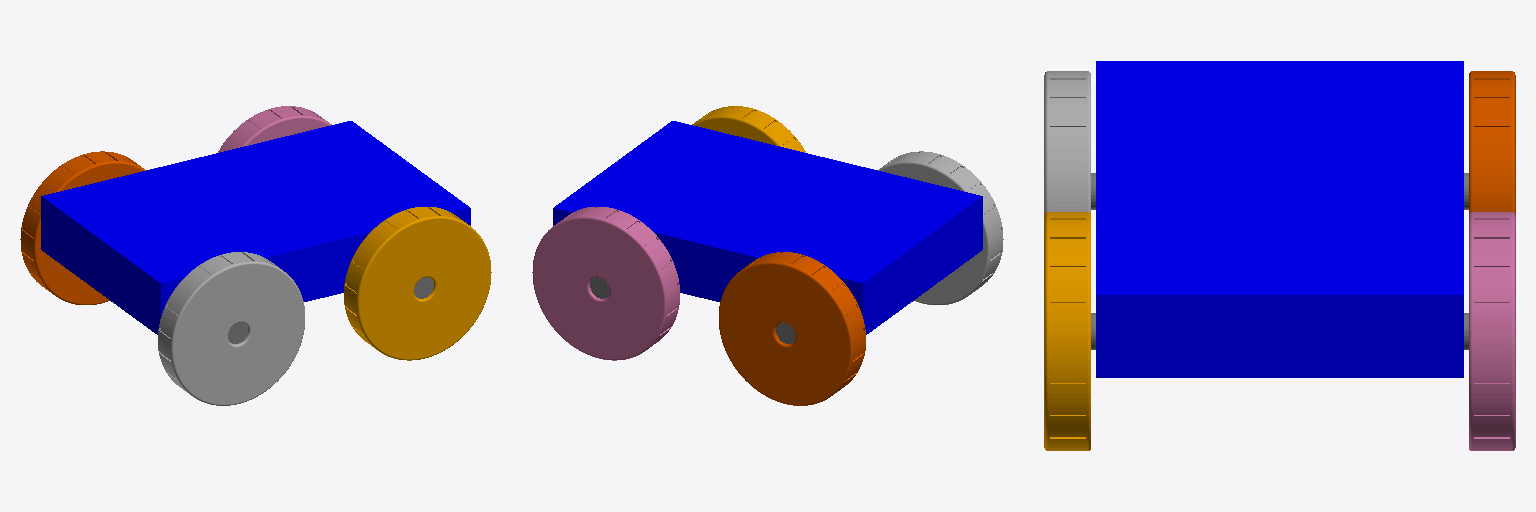
robot.urdf — farad_amr:
<?xml version="1.0"?>
<robot name="farad_amr">

<!-- Base link (chassis) -->
<link name="base_link">
<visual>
<geometry>
<box size="0.6 0.4 0.1"/>
</geometry>
<material name="blue">
<color rgba="0 0 1 1"/>
</material>
</visual>
<collision>
<geometry>
<box size="0.6 0.4 0.1"/>
</geometry>
</collision>
<inertial>
<mass value="10.0"/>
<inertia ixx="0.1" ixy="0.0" ixz="0.0" iyy="0.1" iyz="0.0" izz="0.1"/>
</inertial>
</link>




<!-- Left front shaft -->
<link name="left_front_shaft">
<visual>
<geometry>
<cylinder radius="0.02" length="0.10"/>
</geometry>
<origin xyz="0 0 0" rpy="1.5708 0 0"/>
<material name="gray">
<color rgba="0.5 0.5 0.5 1"/>
</material>
</visual>
<collision>
<geometry>
<cylinder radius="0.02" length="0.10"/>
</geometry>
<origin xyz="0 0 0" rpy="1.5708 0 0"/>
</collision>
<inertial>
<mass value="0.2"/>
<inertia ixx="0.01" ixy="0.0" ixz="0.0" iyy="0.01" iyz="0.0" izz="0.01"/>
</inertial>
</link>

<!-- Left rear shaft -->
<link name="left_rear_shaft">
<visual>
<geometry>
<cylinder radius="0.02" length="0.10"/>
</geometry>
<origin xyz="0 0 0" rpy="1.5708 0 0"/>
<material name="gray">
<color rgba="0.5 0.5 0.5 1"/>
</material>
</visual>
<collision>
<geometry>
<cylinder radius="0.02" length="0.10"/>
</geometry>
<origin xyz="0 0 0" rpy="1.5708 0 0"/>
</collision>
<inertial>
<mass value="0.2"/>
<inertia ixx="0.01" ixy="0.0" ixz="0.0" iyy="0.01" iyz="0.0" izz="0.01"/>
</inertial>
</link>

<!-- Right front shaft -->
<link name="right_front_shaft">
<visual>
<geometry>
<cylinder radius="0.02" length="0.10"/>
</geometry>
<origin xyz="0 0 0" rpy="1.5708 0 0"/>
<material name="gray">
<color rgba="0.5 0.5 0.5 1"/>
</material>
</visual>
<collision>
<geometry>
<cylinder radius="0.02" length="0.10"/>
</geometry>
<origin xyz="0 0 0" rpy="1.5708 0 0"/>
</collision>
<inertial>
<mass value="0.2"/>
<inertia ixx="0.01" ixy="0.0" ixz="0.0" iyy="0.01" iyz="0.0" izz="0.01"/>
</inertial>
</link>

<!-- Right rear shaft -->
<link name="right_rear_shaft">
<visual>
<geometry>
<cylinder radius="0.02" length="0.10"/>
</geometry>
<origin xyz="0 0 0" rpy="1.5708 0 0"/>
<material name="gray">
<color rgba="0.5 0.5 0.5 1"/>
</material>
</visual>
<collision>
<geometry>
<cylinder radius="0.02" length="0.10"/>
</geometry>
<origin xyz="0 0 0" rpy="1.5708 0 0"/>
</collision>
<inertial>
<mass value="0.2"/>
<inertia ixx="0.01" ixy="0.0" ixz="0.0" iyy="0.01" iyz="0.0" izz="0.01"/>
</inertial>
</link>



<!-- ================= TIRES (MESH) ================= -->

<!-- Left front tire (aligned with shaft, at +Y end) -->
<link name="left_front_tire">
	<inertial>
		<origin xyz="0 0 0"/>
		<mass value="1.0"/>
		<inertia ixx="0.02" iyy="0.02" izz="0.02" ixy="0" ixz="0" iyz="0"/>
	</inertial>
	<visual>
		<origin xyz="0 0.03 0" rpy="1.5708 0 0"/>
		<geometry>
			<mesh filename="tire_2.stl" scale="0.001 0.001 0.001"/>
		</geometry>
	</visual>
	<collision>
		<origin xyz="0 0.03 0" rpy="1.5708 0 0"/>
		<geometry>
			<mesh filename="tire_2.stl" scale="0.001 0.001 0.001"/>
		</geometry>
	</collision>
</link>

<!-- Left rear tire (aligned with shaft, at +Y end) -->
<link name="left_rear_tire">
	<inertial>
		<origin xyz="0 0 0"/>
		<mass value="1.0"/>
		<inertia ixx="0.02" iyy="0.02" izz="0.02" ixy="0" ixz="0" iyz="0"/>
	</inertial>
	<visual>
		<origin xyz="0 0.03 0" rpy="1.5708 0 0"/>
		<geometry>
			<mesh filename="tire_2.stl" scale="0.001 0.001 0.001"/>
		</geometry>
	</visual>
	<collision>
		<origin xyz="0 0.03 0" rpy="1.5708 0 0"/>
		<geometry>
			<mesh filename="tire_2.stl" scale="0.001 0.001 0.001"/>
		</geometry>
	</collision>
</link>

<!-- Right front tire (aligned with shaft, at +Y end) -->
<link name="right_front_tire">
	<inertial>
		<origin xyz="0 0 0"/>
		<mass value="1.0"/>
		<inertia ixx="0.02" iyy="0.02" izz="0.02" ixy="0" ixz="0" iyz="0"/>
	</inertial>
	<visual>
		<origin xyz="0 -0.03 0" rpy="1.5708 0 0"/>
		<geometry>
			<mesh filename="tire_2.stl" scale="0.001 0.001 0.001"/>
		</geometry>
	</visual>
	<collision>
		<origin xyz="0 -0.03 0" rpy="1.5708 0 0"/>
		<geometry>
			<mesh filename="tire_2.stl" scale="0.001 0.001 0.001"/>
		</geometry>
	</collision>
</link>

<!-- Right rear tire (aligned with shaft, at +Y end) -->
<link name="right_rear_tire">
	<inertial>
		<origin xyz="0 0 0"/>
		<mass value="1.0"/>
		<inertia ixx="0.02" iyy="0.02" izz="0.02" ixy="0" ixz="0" iyz="0"/>
	</inertial>
	<visual>
		<origin xyz="0 -0.03 0" rpy="1.5708 0 0"/>
		<geometry>
			<mesh filename="tire_2.stl" scale="0.001 0.001 0.001"/>
		</geometry>
	</visual>
	<collision>
		<origin xyz="0 -0.03 0" rpy="1.5708 0 0"/>
		<geometry>
			<mesh filename="tire_2.stl" scale="0.001 0.001 0.001"/>
		</geometry>
	</collision>
</link>



<!-- ================= SHAFTS AND TIRES ASSEMBLY ================= -->

<!-- Left front shaft (front left corner) -->
<joint name="base_link_to_left_front_shaft" type="fixed">
	<parent link="base_link"/>
	<child link="left_front_shaft"/>
	<origin xyz="-0.18 0.2 -0.05" rpy="0 0 0"/>
</joint>

<!-- Attach left front tire to shaft with continuous joint (rotates freely) -->
<joint name="left_front_shaft_to_tire" type="continuous">
	<parent link="left_front_shaft"/>
	<child link="left_front_tire"/>
	<!-- Tire is placed at end of shaft, so no offset needed -->
	<origin xyz="0 0 0" rpy="0 0 0"/>
	<axis xyz="0 1 0"/>
</joint>

<!-- Left rear shaft (rear left corner) -->
<joint name="base_link_to_left_rear_shaft" type="fixed">
	<parent link="base_link"/>
	<child link="left_rear_shaft"/>
	<origin xyz="0.18 0.2 -0.05" rpy="0 0 0"/>
</joint>

<!-- Attach left rear tire to shaft with continuous joint -->
<joint name="left_rear_shaft_to_tire" type="continuous">
	<parent link="left_rear_shaft"/>
	<child link="left_rear_tire"/>
	<origin xyz="0 0 0" rpy="0 0 0"/>
	<axis xyz="0 1 0"/>
</joint>

<!-- Right front shaft (front right corner) -->
<joint name="base_link_to_right_front_shaft" type="fixed">
	<parent link="base_link"/>
	<child link="right_front_shaft"/>
	<origin xyz="-0.18 -0.2 -0.05" rpy="0 0 0"/>
</joint>

<!-- Attach right front tire to shaft with continuous joint -->
<joint name="right_front_shaft_to_tire" type="continuous">
	<parent link="right_front_shaft"/>
	<child link="right_front_tire"/>
	<origin xyz="0 0 0" rpy="0 0 0"/>
	<axis xyz="0 1 0"/>
</joint>

<!-- Right rear shaft (rear right corner) -->
<joint name="base_link_to_right_rear_shaft" type="fixed">
	<parent link="base_link"/>
	<child link="right_rear_shaft"/>
	<origin xyz="0.18 -0.2 -0.05" rpy="0 0 0"/>
</joint>

<!-- Attach right rear tire to shaft with continuous joint -->
<joint name="right_rear_shaft_to_tire" type="continuous">
	<parent link="right_rear_shaft"/>
	<child link="right_rear_tire"/>
	<origin xyz="0 0 0" rpy="0 0 0"/>
	<axis xyz="0 1 0"/>
</joint>

</robot>

--- What the picture shows (computed from the rendered views, not written in the file) ---
The picture shows the robot from 3 angles, left to right: view 1: azimuth 30°, elevation 25°; view 2: azimuth 150°, elevation 25°; view 3: azimuth 270°, elevation 25°; orthographic projection.
Robot: farad_amr — 9 links, 8 joints (4 continuous, 4 fixed); root link base_link; default pose: every joint at zero.
Visible links, largest first — view 1: base_link, right_front_tire, right_rear_tire, left_front_tire, left_rear_tire; view 2: base_link, left_front_tire, left_rear_tire, right_front_tire, right_rear_tire; view 3: base_link, left_rear_tire, right_rear_tire, left_front_tire, right_front_tire.
Boxes of the visible links, bbox=[...] form: base_link: bbox=[41, 121, 470, 334]; right_front_tire: bbox=[158, 252, 304, 405]; right_rear_tire: bbox=[344, 207, 491, 360]; left_front_tire: bbox=[20, 151, 145, 304]; left_rear_tire: bbox=[218, 106, 331, 152]; base_link: bbox=[553, 121, 982, 334]; left_front_tire: bbox=[719, 252, 865, 405]; left_rear_tire: bbox=[532, 207, 679, 360]; right_front_tire: bbox=[878, 151, 1003, 304]; right_rear_tire: bbox=[692, 106, 805, 152]; base_link: bbox=[1096, 61, 1463, 377]; left_rear_tire: bbox=[1469, 212, 1515, 450]; right_rear_tire: bbox=[1044, 212, 1090, 450]; left_front_tire: bbox=[1469, 71, 1515, 214]; right_front_tire: bbox=[1044, 71, 1090, 214].
Bounding box of the posed robot: 0.62 × 0.5109 × 0.2599 m (x, y, z).
4 mesh visuals loaded from 1 distinct referenced files (1 binary STL).
